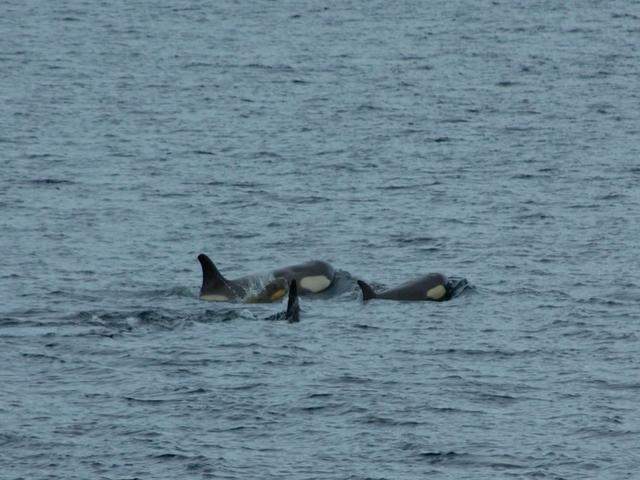dolphin: (171, 234, 381, 307)
